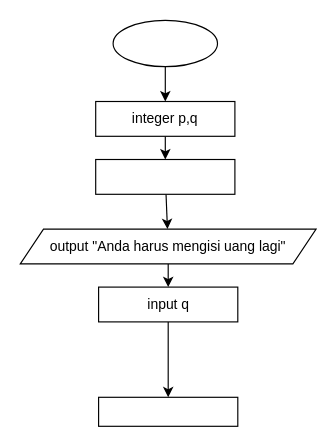
This 336x447 diagram has some shape labels left out. The shapes that lost their labels are listed below. From the top down, each one's centre as x and y in pixels, then its label:
[164,43]: Star
[165,176]: p=0
